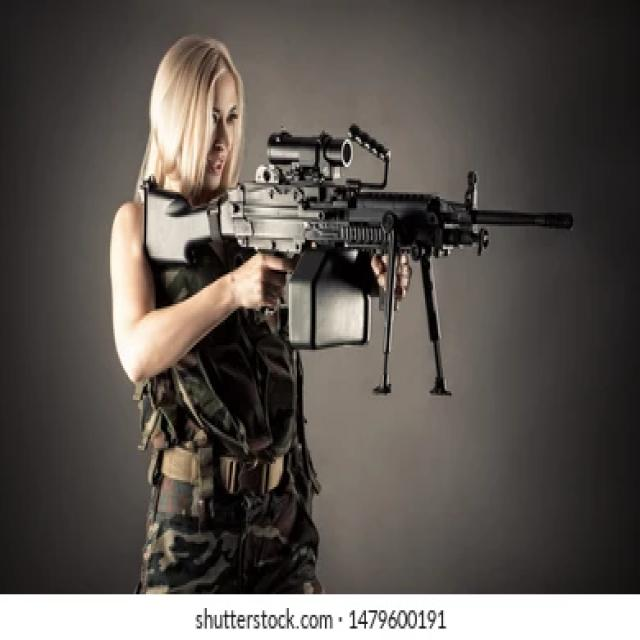soldier: (108, 34, 580, 603)
